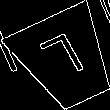L_SE: (38, 31, 93, 89)
